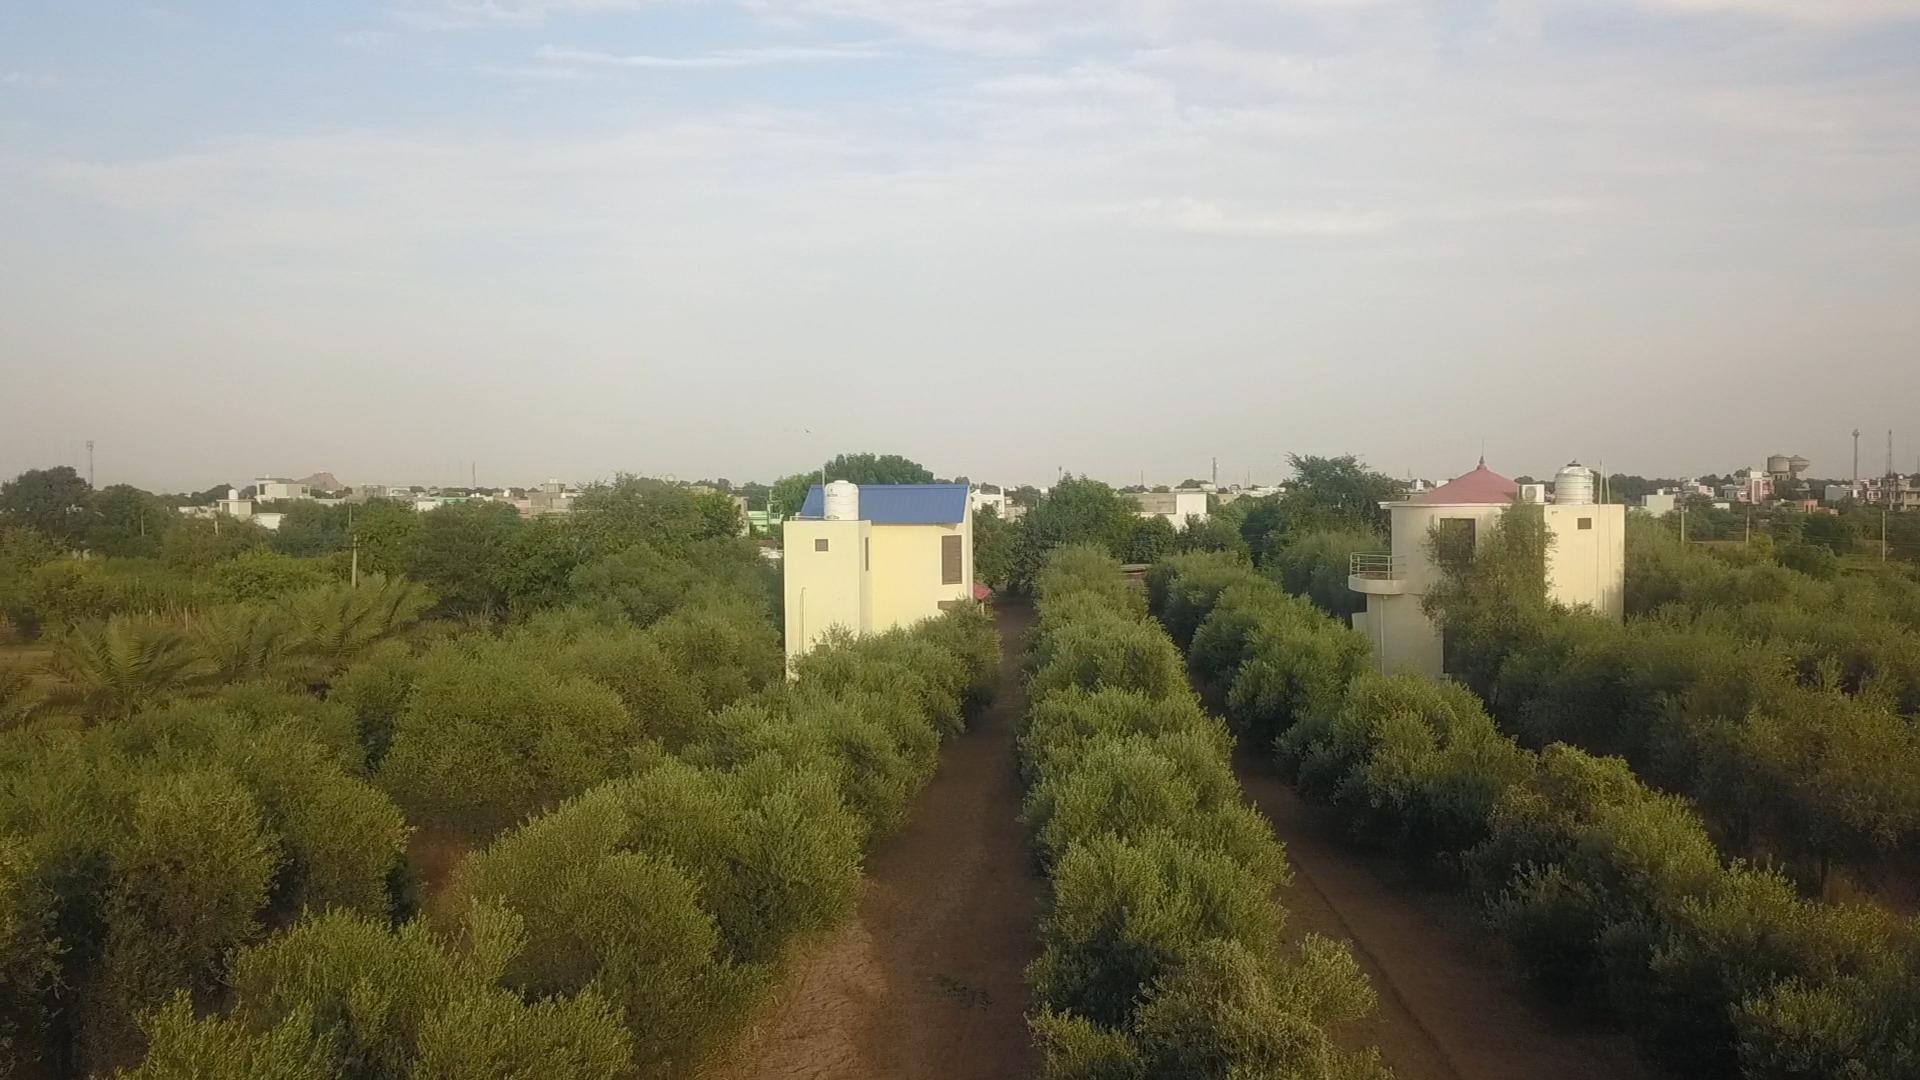canopy: (127, 611, 1000, 1079), (1149, 553, 1919, 1079), (1017, 545, 1391, 1079), (1425, 506, 1919, 889)
road: (1236, 757, 1648, 1079), (727, 702, 1046, 1079)
